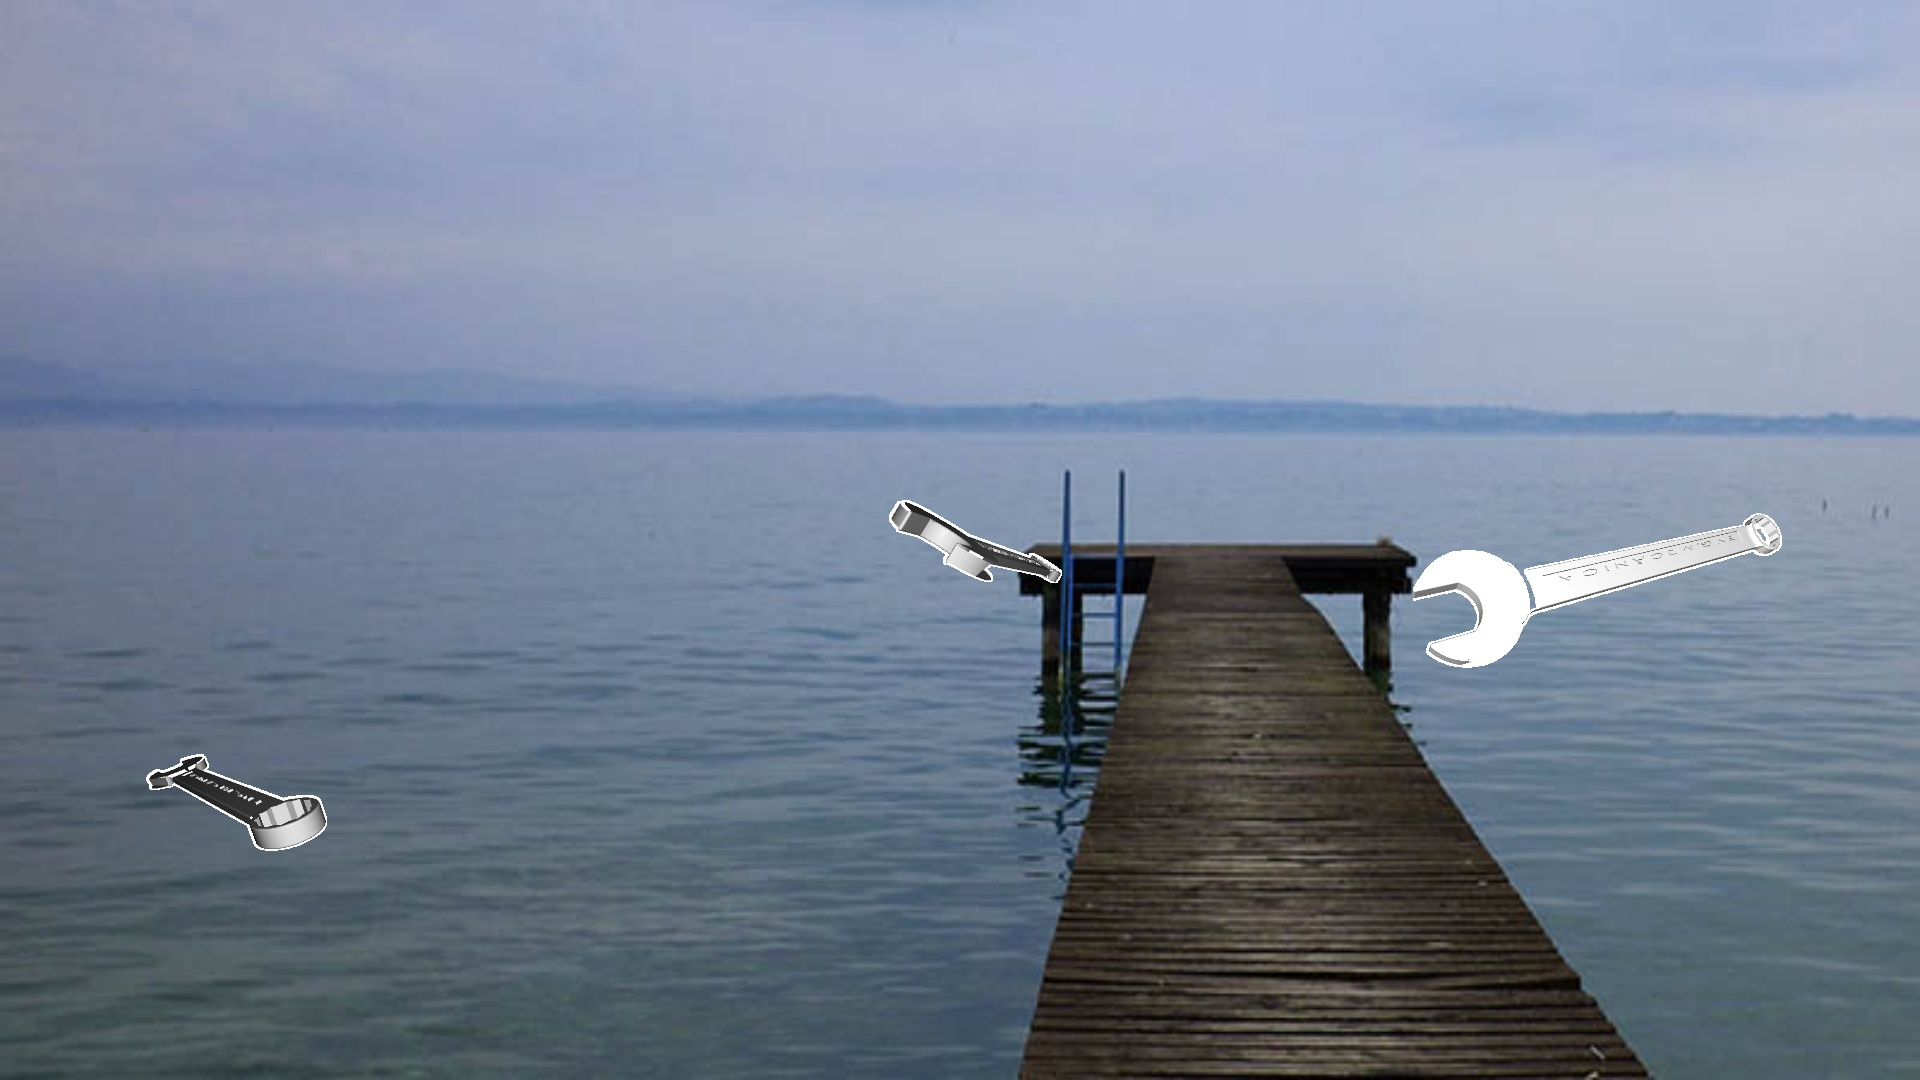Mixed Key: (1414, 513, 1782, 667), (146, 754, 326, 851), (889, 500, 1062, 582)
